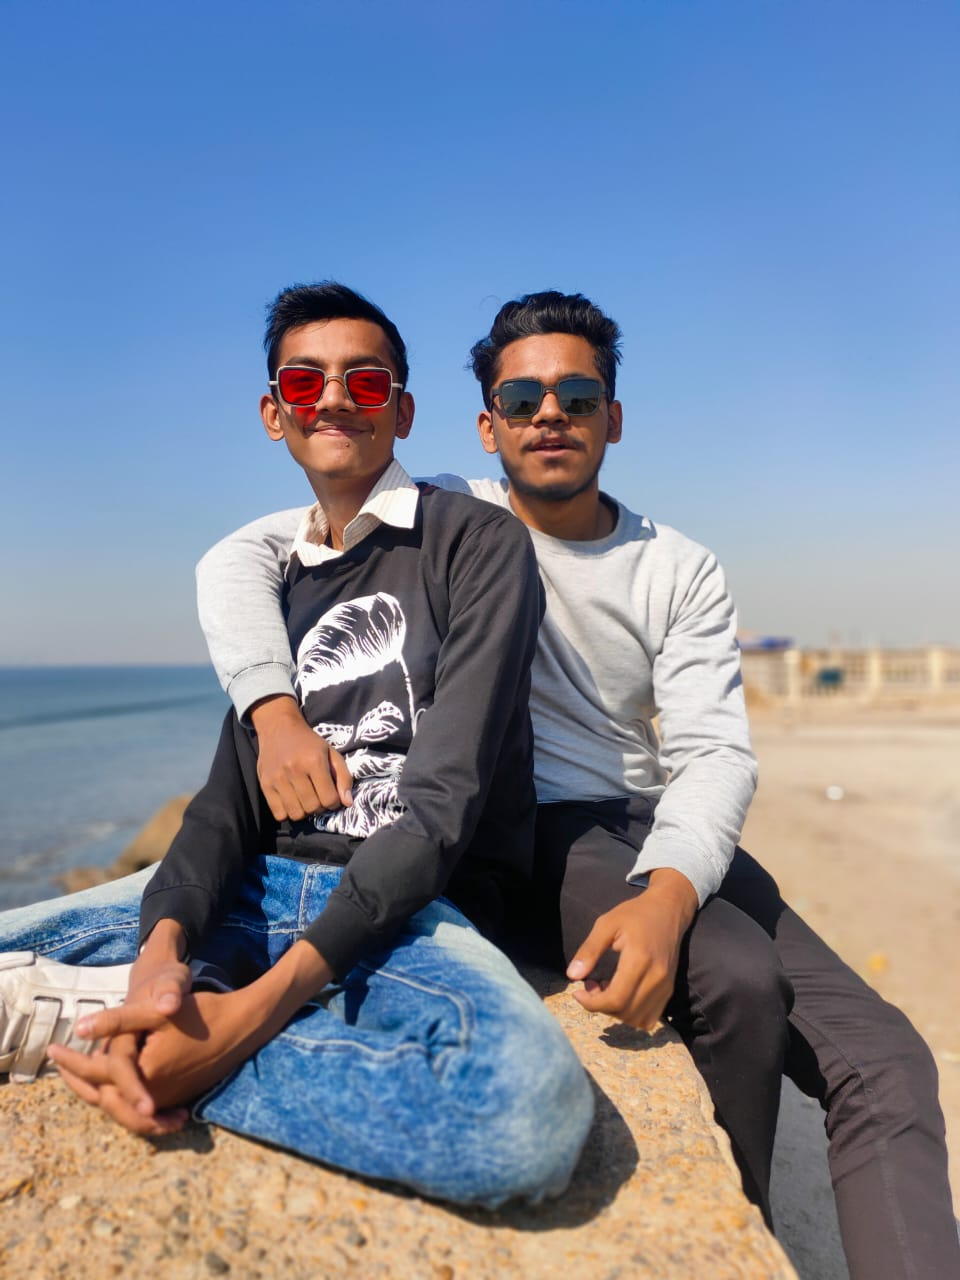NoMask: (279, 353, 393, 469), (497, 371, 605, 492)
